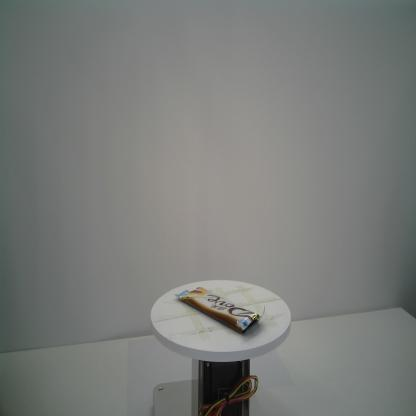Chocolate: (173, 284, 268, 336)
